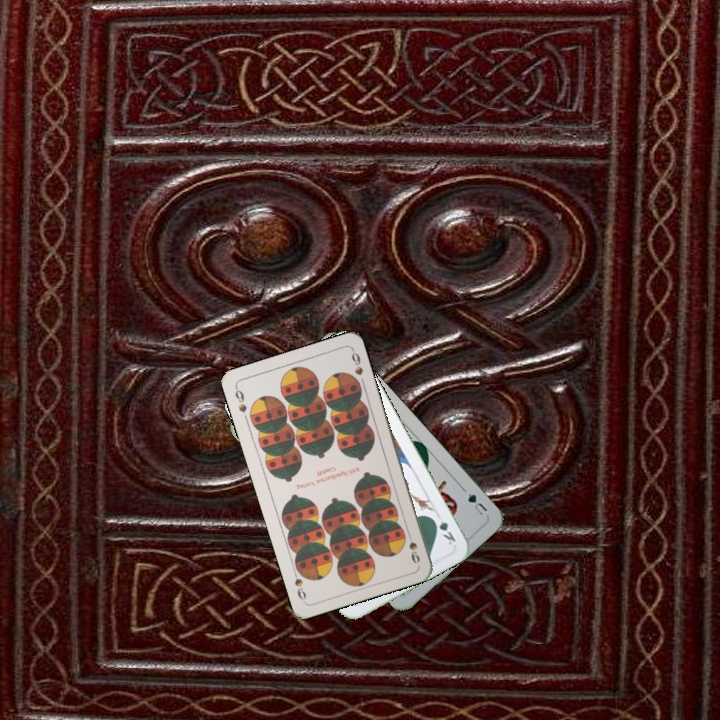GK: (428, 513, 459, 548)
GU: (464, 489, 490, 519)
S9: (403, 527, 423, 566), (231, 383, 249, 415)
